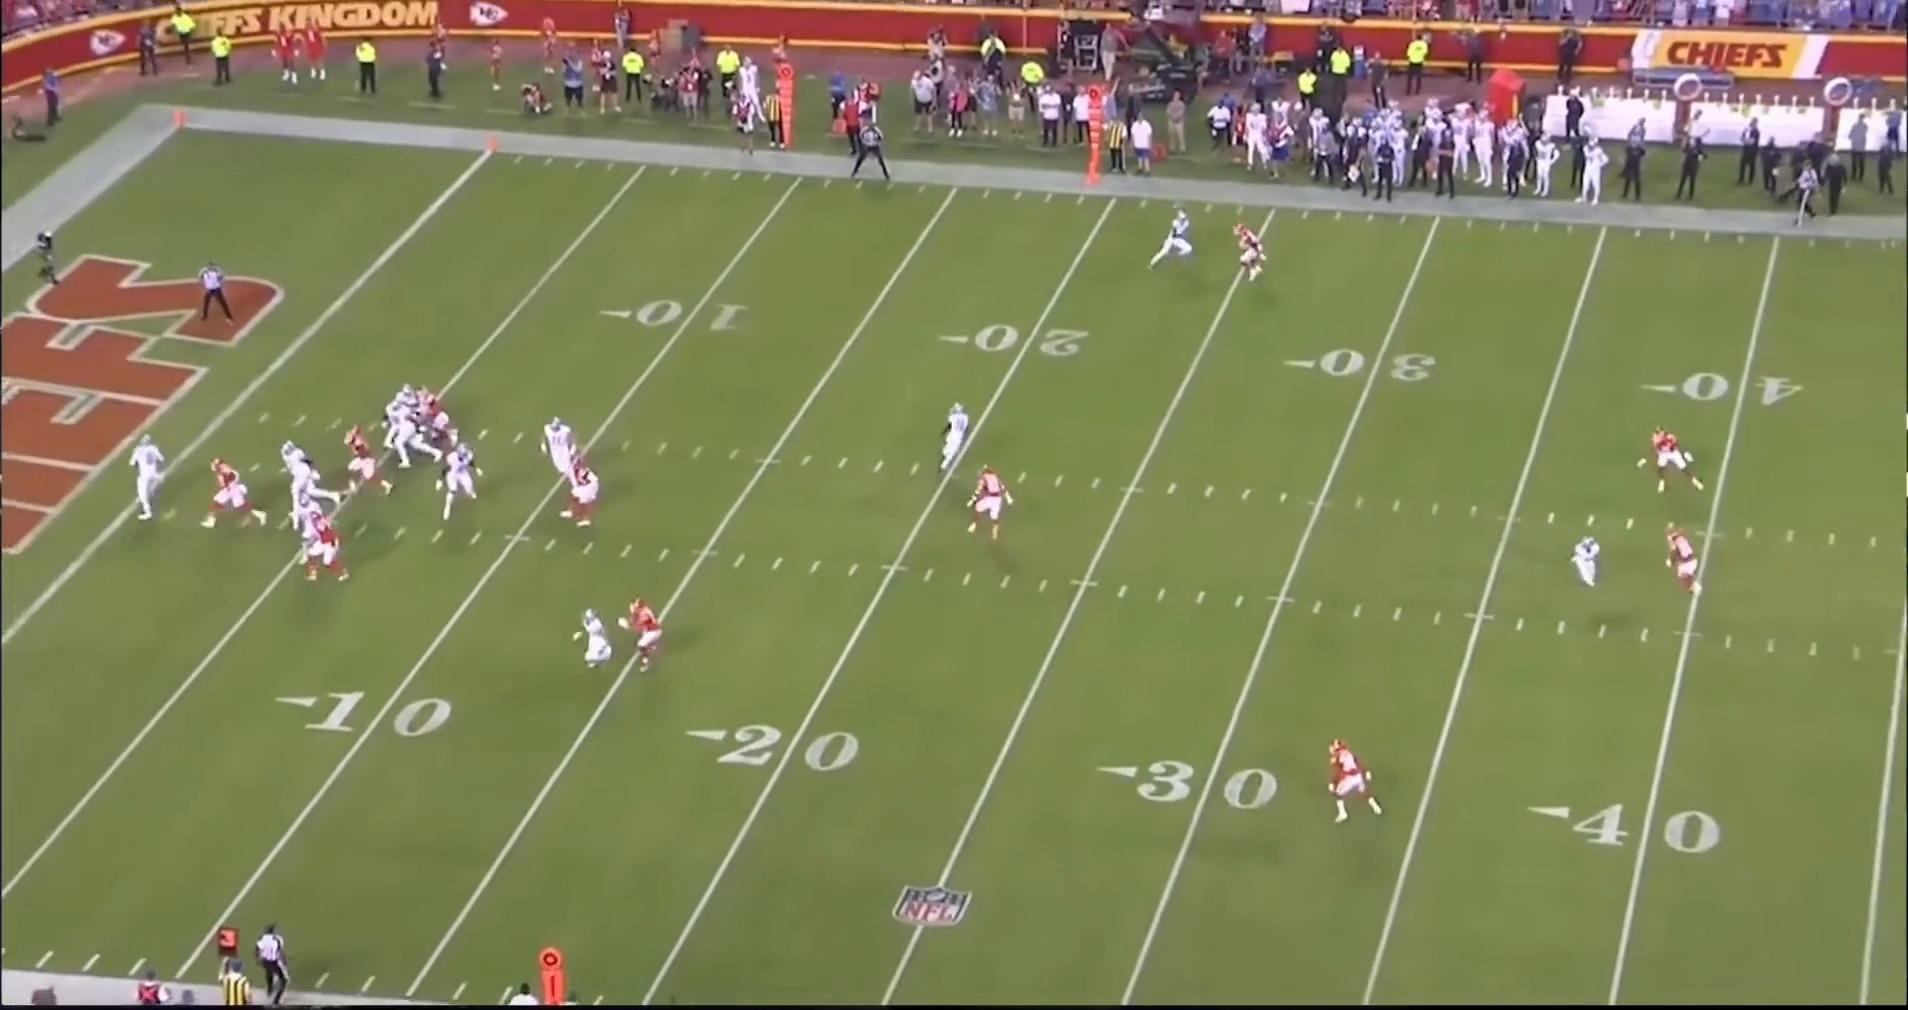defense: (1318, 739, 1380, 827), (204, 457, 269, 535), (1640, 424, 1702, 500), (965, 462, 1012, 543), (341, 425, 393, 497), (622, 596, 670, 672), (302, 511, 350, 585), (1656, 524, 1701, 599), (560, 461, 606, 532), (415, 386, 460, 445), (1227, 223, 1267, 289)
oline: (432, 440, 477, 522), (388, 403, 439, 470), (275, 438, 318, 517), (542, 419, 586, 479), (294, 491, 328, 568)
qb: (133, 431, 174, 525)
ref: (256, 919, 302, 1003), (189, 257, 232, 329), (845, 116, 891, 181), (1794, 160, 1829, 233)
skill: (1145, 210, 1199, 278), (933, 399, 977, 477), (571, 611, 615, 672), (1571, 536, 1610, 599), (385, 384, 416, 421)
